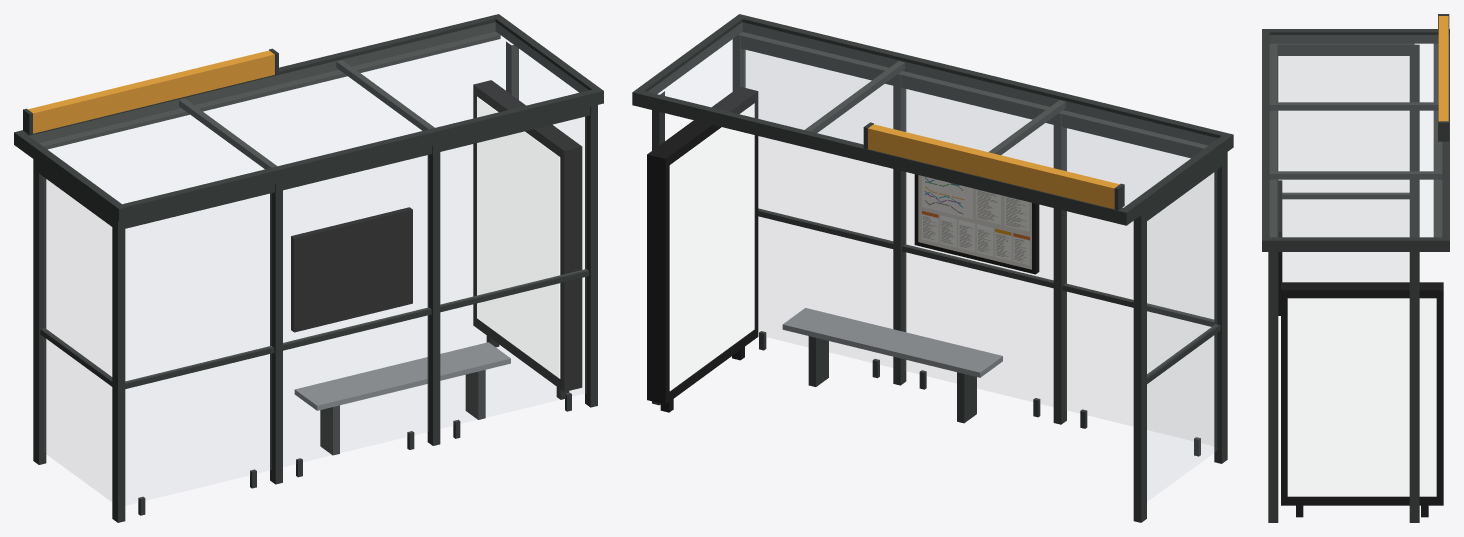
File: wall_shelter.glb
3 renders of one model, left to right at view 1: azimuth 30°, elevation 25°; view 2: azimuth 150°, elevation 25°; view 3: azimuth 270°, elevation 25°, orthographic. The views are drawn at different scales.
Visible parts, largest first — view 1: Shelter; view 2: Shelter; view 3: Shelter.
Part boxes in pixels (box(x1,y1,x2,y2)): Shelter: box(14, 14, 603, 522); Shelter: box(632, 14, 1233, 522); Shelter: box(1262, 14, 1449, 522).
Bounding box in the file's own units: 4 × 2.66 × 1.5.
Materials: 8 (1 with a texture image).
